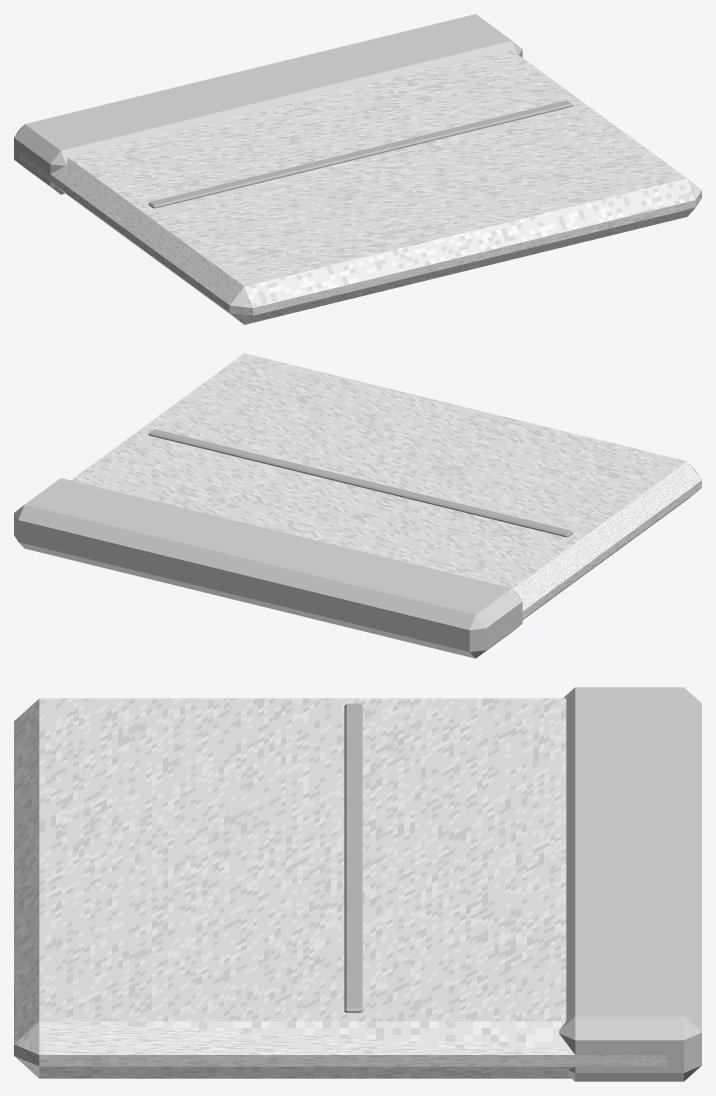
File: briefs.glb
3 renders of one model, top to bottom at view 1: azimuth 30°, elevation 25°; view 2: azimuth 150°, elevation 25°; view 3: azimuth 270°, elevation 25°, orthographic. The views are drawn at different scales.
Visible parts, largest first — view 1: block_body, block_waist, block_fold; view 2: block_body, block_waist, block_fold; view 3: block_body, block_waist, block_fold.
Boxes of the visible parts, x1,y1,x2,y2 form: block_body: (19, 49, 701, 324); block_waist: (14, 14, 522, 194); block_fold: (148, 100, 572, 208); block_body: (71, 353, 701, 640); block_waist: (14, 478, 522, 658); block_fold: (148, 429, 572, 537); block_body: (14, 698, 667, 1078); block_waist: (559, 687, 701, 1081); block_fold: (344, 703, 362, 1012).
Size of the model in its own units: 0.18 by 0.016 by 0.152.
1 material, 1 textured.
